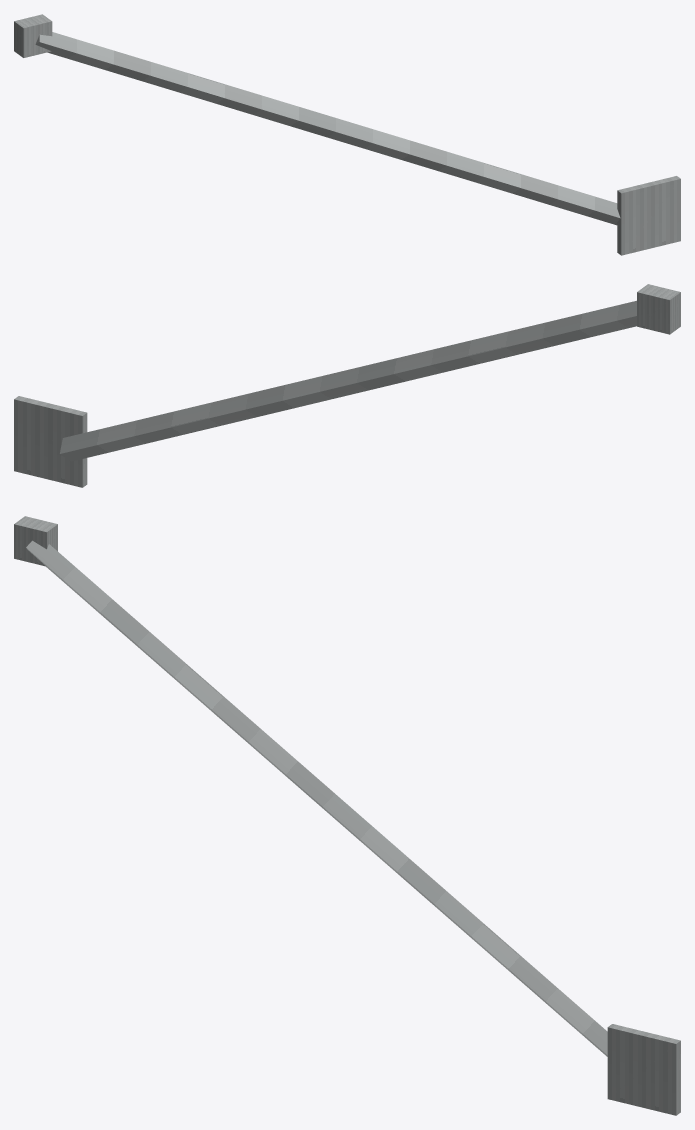
Rendered from brace_l.obj.
3 renders of one model, top to bottom at view 1: azimuth 30°, elevation 25°; view 2: azimuth 150°, elevation 25°; view 3: azimuth 330°, elevation 25°, orthographic. The views are drawn at different scales.
Visible parts, largest first — view 1: crossarm_alley_metal_5_l; view 2: crossarm_alley_metal_5_l; view 3: crossarm_alley_metal_5_l.
Part boxes in pixels (x1,y1,x2,y2): crossarm_alley_metal_5_l: (14, 14, 680, 255); crossarm_alley_metal_5_l: (14, 284, 680, 487); crossarm_alley_metal_5_l: (14, 516, 680, 1115).
Size of the model in its own units: 3.23 by 1.67 by 0.4625.
